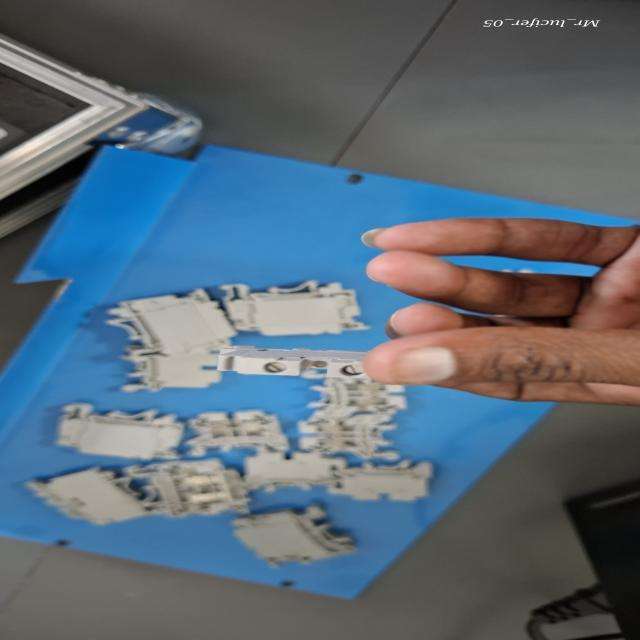Inverted: (204, 346, 382, 386)
